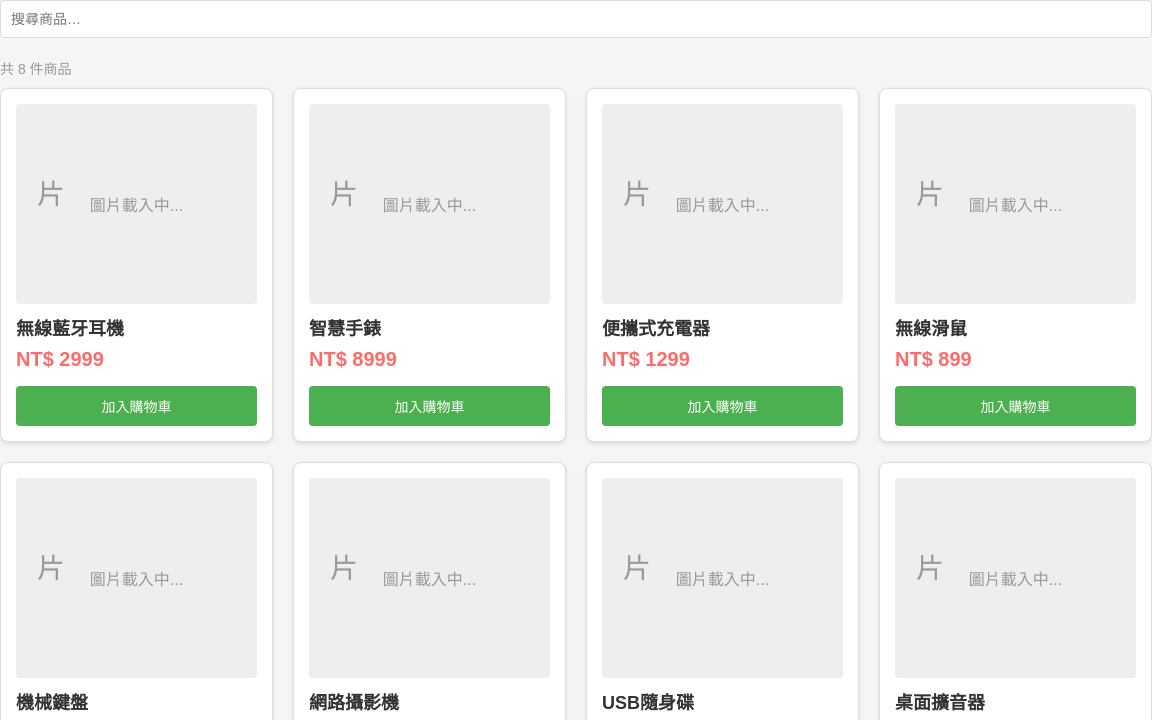
it: Ticket 05: search products by name › shows the empty state when nothing matches
In the search field labelled "搜尋商品": coordinates (576, 19) [0,0,1151,38], type "zzz"
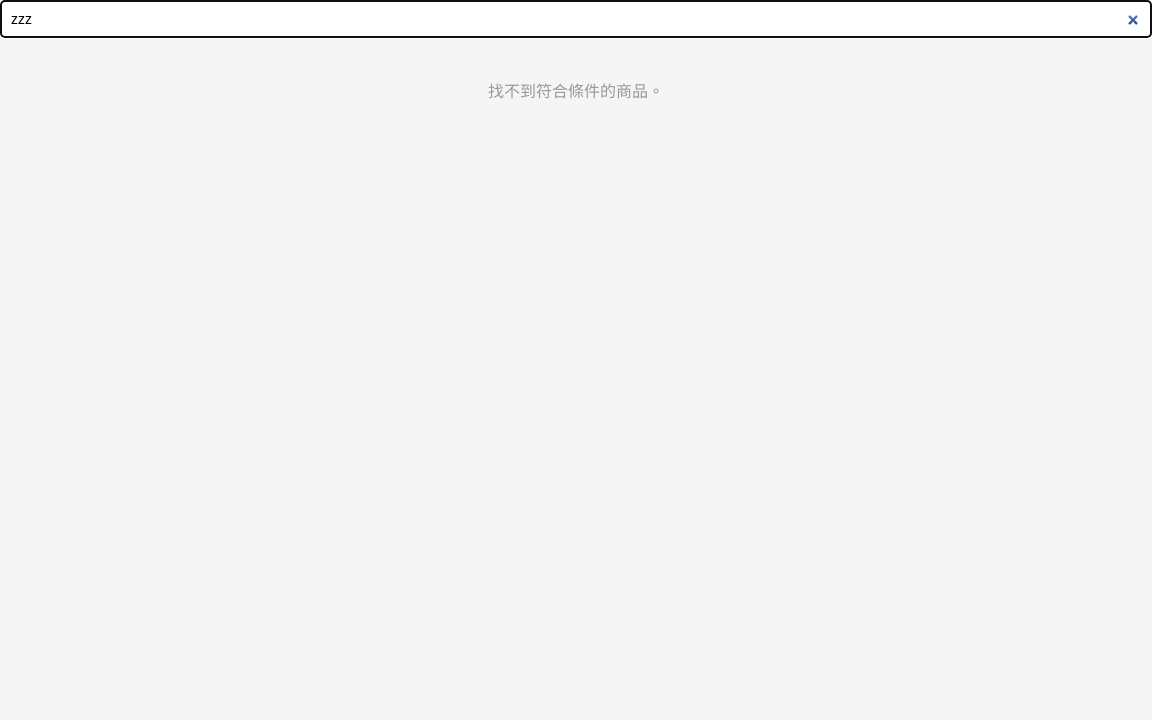
Expected: the message reads "找不到符合條件的商品。", [488,83,664,100]
